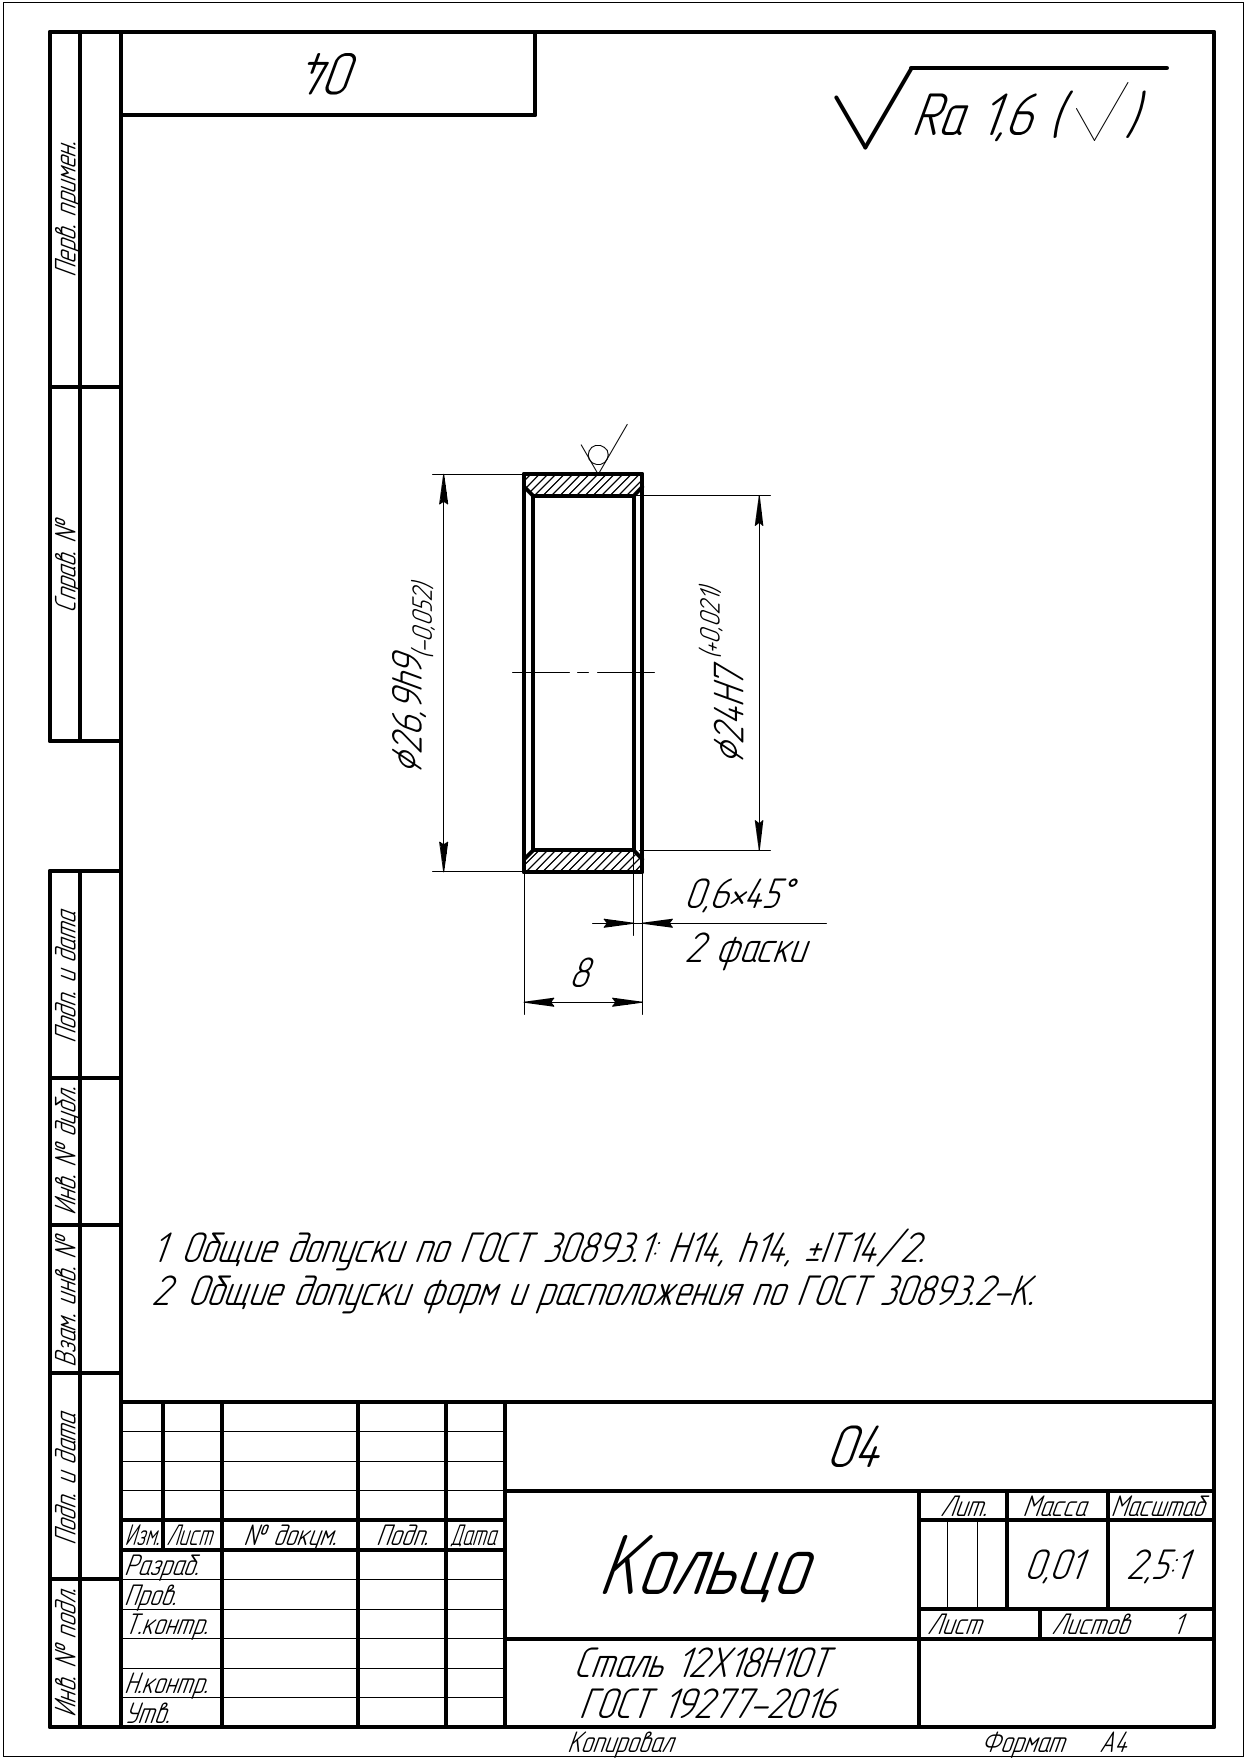Диаметральный размер: (696, 490, 775, 854), (385, 468, 451, 875)
Допуск: (673, 871, 833, 973), (695, 578, 748, 707), (386, 575, 437, 691)
Линейный размер: (522, 954, 646, 1018)
Общая шероховатость: (825, 49, 1186, 167)
Технические требования: (143, 1220, 1043, 1313)
Шероховатость: (576, 418, 632, 475)
